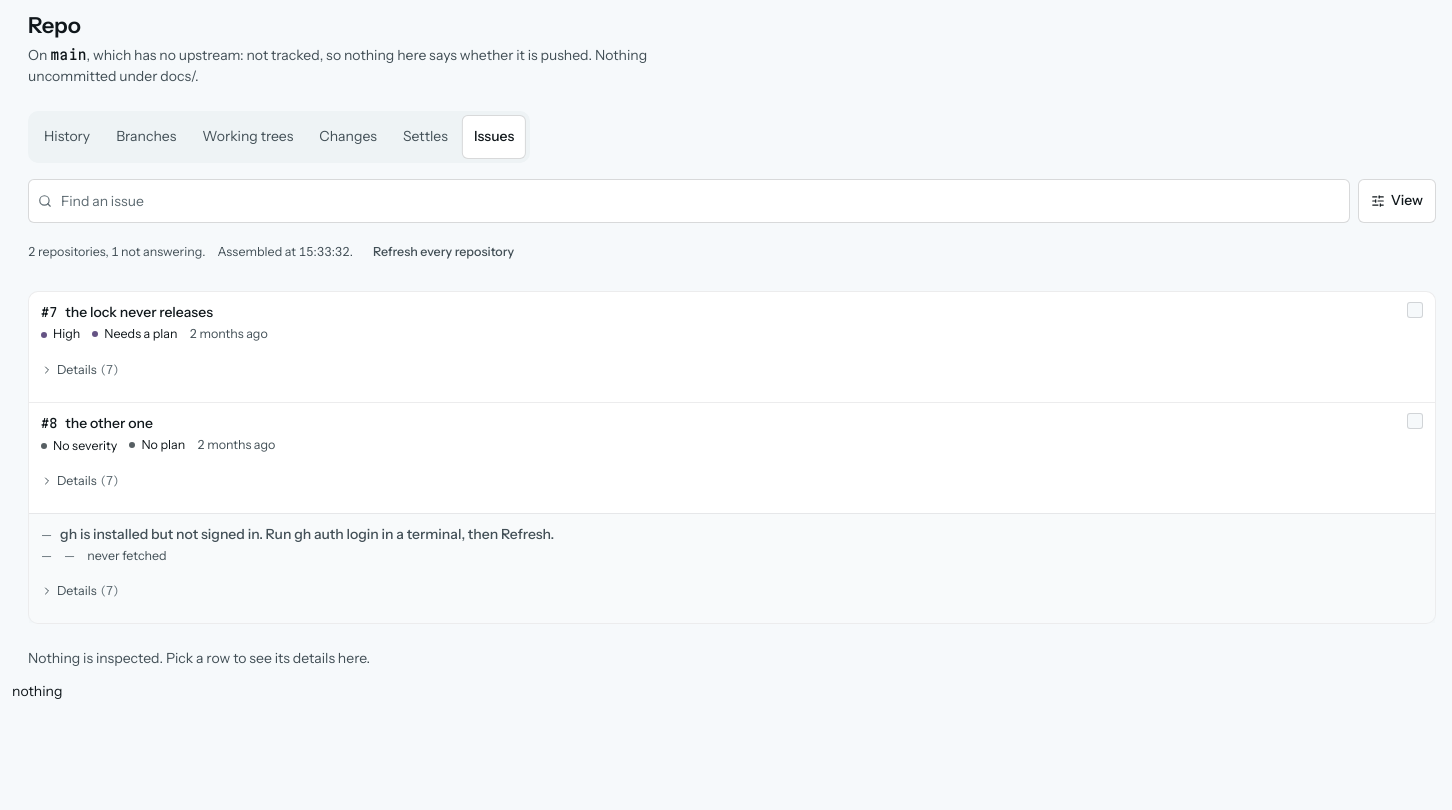
it: a phone can pick ONE issue › every card carries its own pick, not just a pick-all, and one press picks one
Expected: the text "the lock never releases" is shown, 65,302 -> 213,320
What coordinates should you click on to do the following:
click the checkbox named "Pick acme/one#7: the lock never releases"
I would click on:
 (1415, 310)
Its box is 1407,302 -> 1423,318.
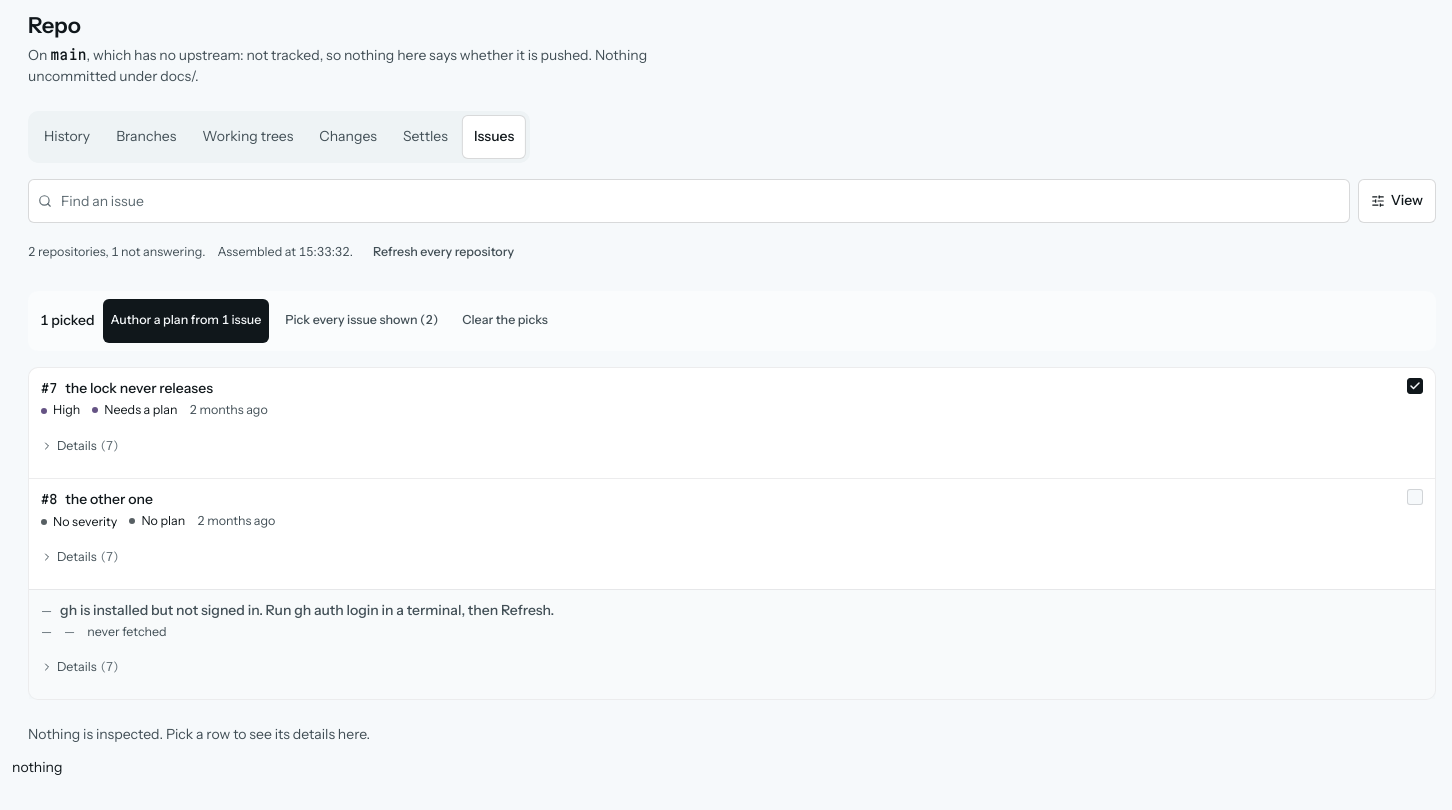
Expected: the checkbox named "Pick acme/one#7: the lock never releases" is checked, 1407,378 -> 1423,394
Expected: the text with test id "selection-count" reads "1 picked", 40,310 -> 94,331
Expected: the button with test id "launch-open" reads "Author a plan from 1 issue", 102,298 -> 269,342
